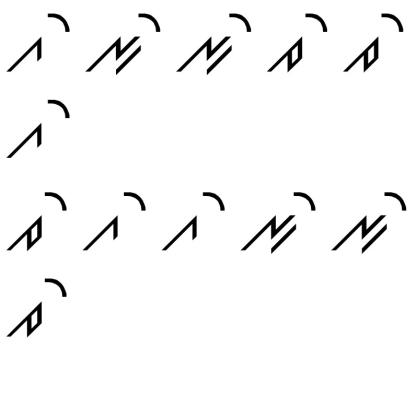gay: (79, 184, 149, 256), (4, 95, 72, 165), (4, 8, 74, 76), (161, 184, 226, 253)
ngay: (240, 184, 320, 263), (330, 187, 411, 265), (173, 9, 253, 79), (85, 8, 163, 77)
tay: (6, 273, 72, 349), (340, 5, 409, 77), (258, 5, 328, 75), (3, 184, 71, 254)
